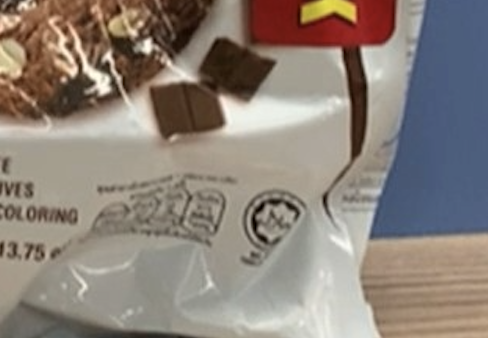halal: (255, 204, 293, 235)
